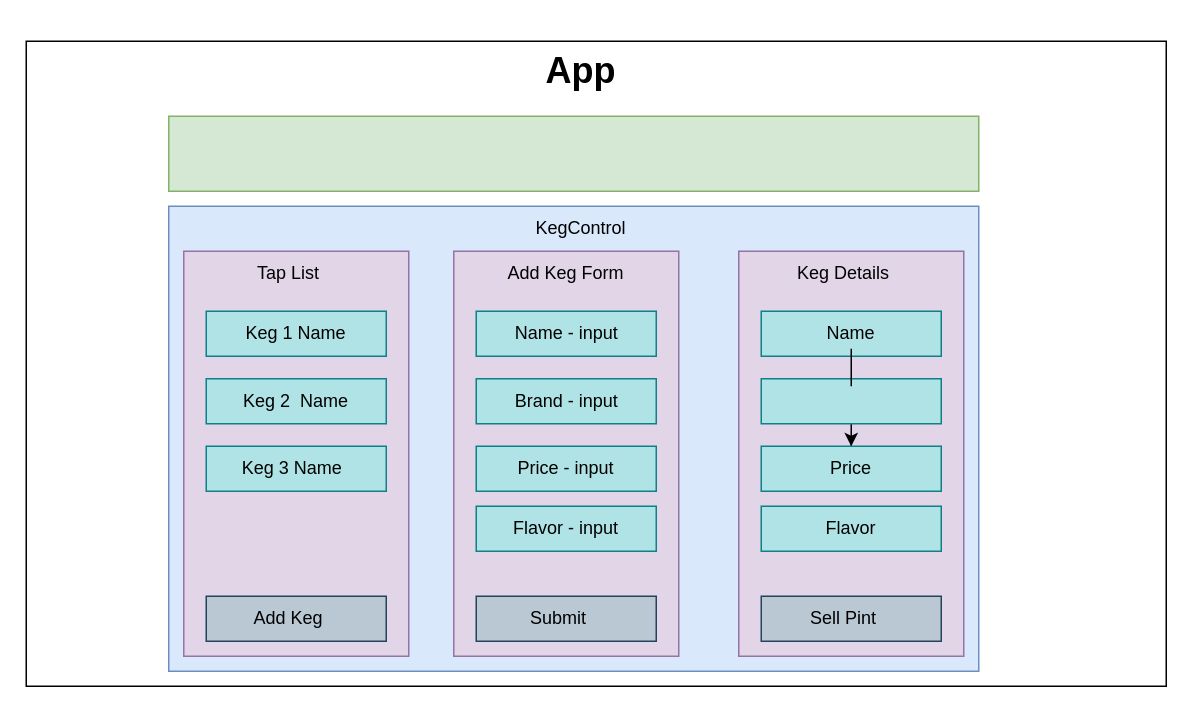
Some shapes in this 1193 by 713 pixel diagram are drawn without their labels. The shapes that lost their labels are listed below. From the top down, each one's centre as x and y in pixels, then its label:
At (x=573, y=153): "Header".
At (x=850, y=400): "Brand".
